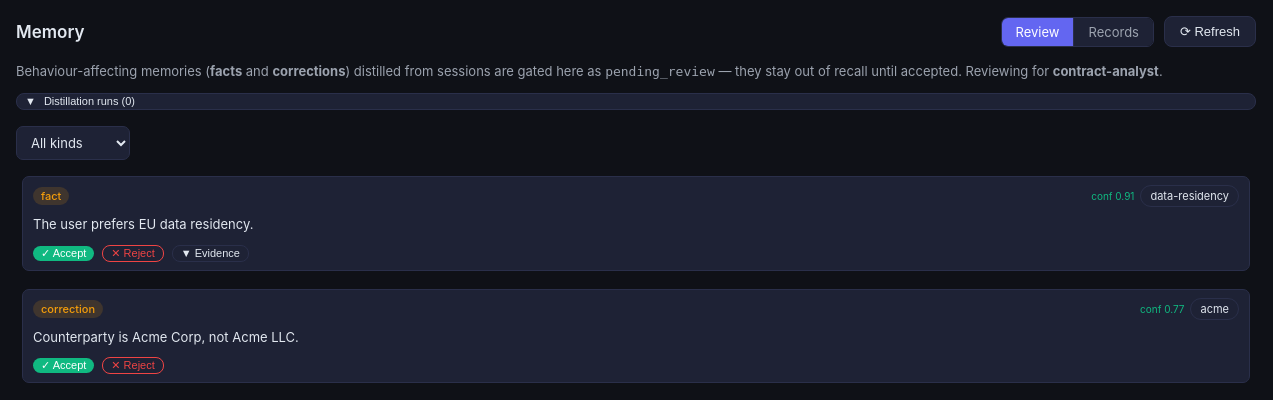
Test case: review › accepts a memory and removes its row
Expected: the text "The user prefers EU data residency." is shown, top-left (33, 216), bottom-right (254, 232)
Click the button "✓ Accept" below "The user prefers EU data residency." at {"x": 64, "y": 253}, box top-left (33, 246), bottom-right (94, 260)
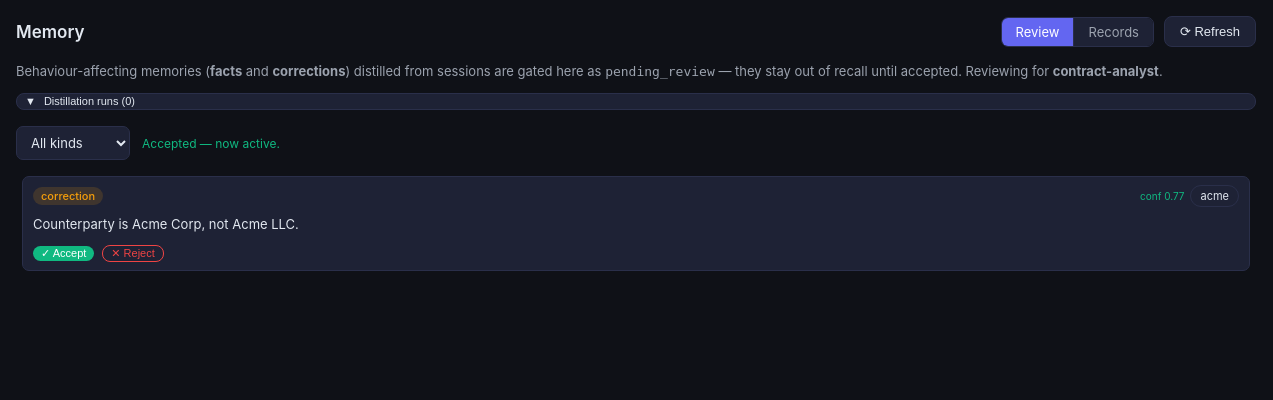
Now the text "EU data residency" is gone
Now the text "Accepted — now active." is shown, box top-left (142, 136), bottom-right (280, 150)
